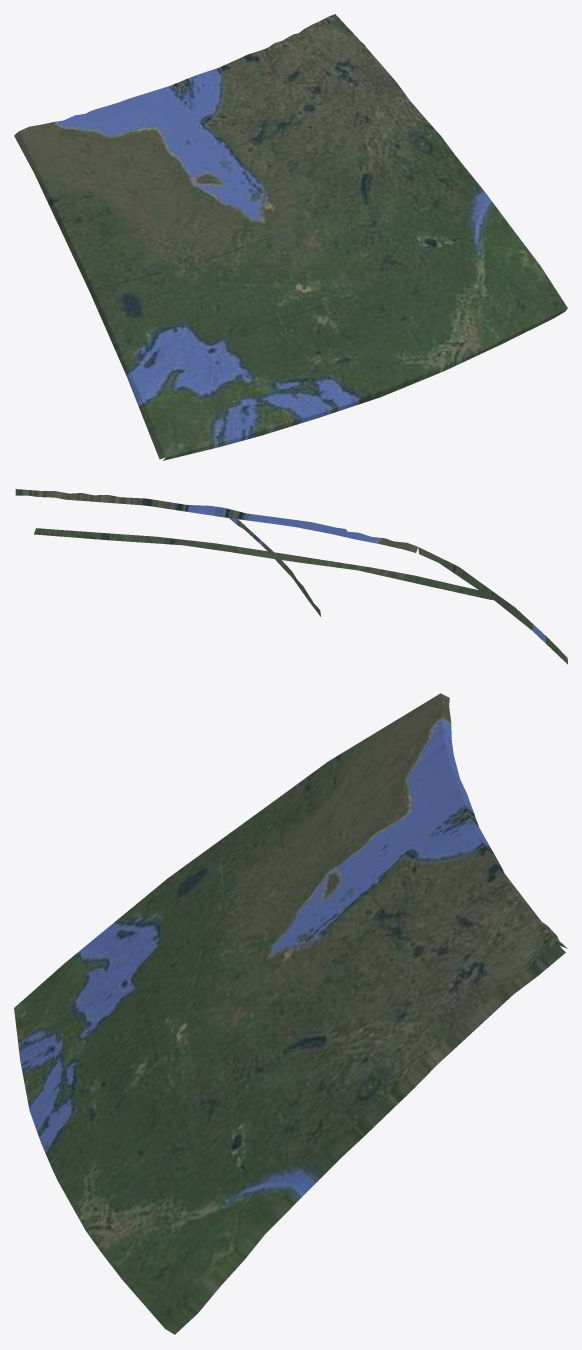
File: AJVsH2yDYE2YdImBRQKZ-HdguX27P7BbEoazzUx8S-_-0PCxKGbPJhmkyeu97W4BQSReKlg7jdVhTsNJIRS5U0NlTyaHhYOUQAWnwmUlWCJJrXj8q4GXPHRcA9F0ToYSrQaQ0EEj4zdp.glb
3 views of the same model, one above another, from view 1: azimuth 30°, elevation 25°; view 2: azimuth 150°, elevation 25°; view 3: azimuth 270°, elevation 25° (orthographic). The views are drawn at different scales.
Size of the model in its own units: 1748033 by 827495 by 1264307.
Materials: 1 (1 with a texture image).
